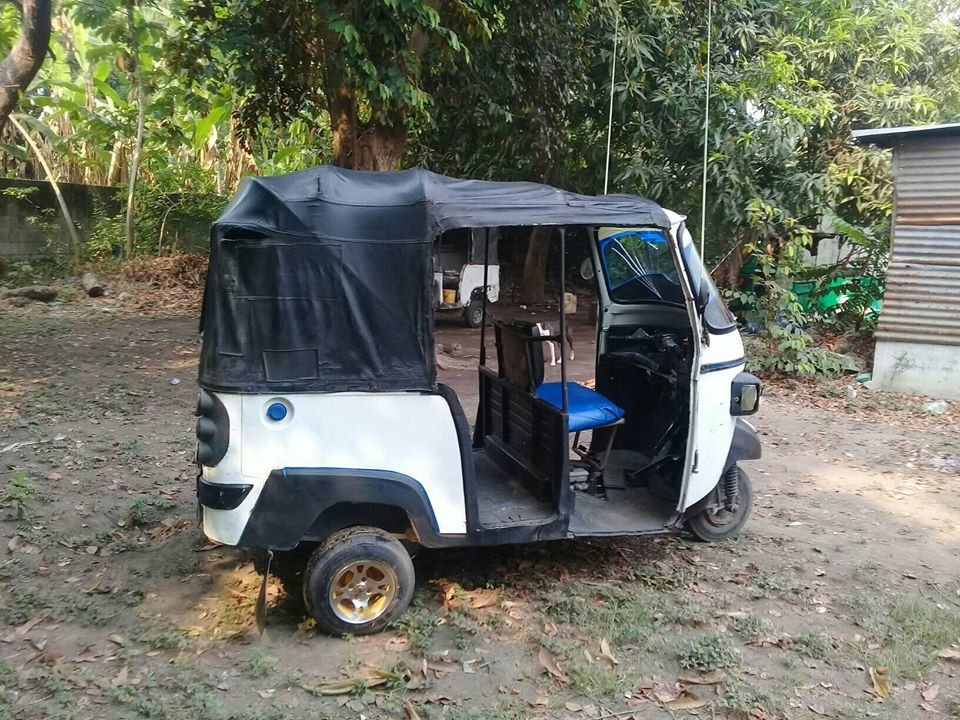mototaxi: (193, 161, 792, 626)
